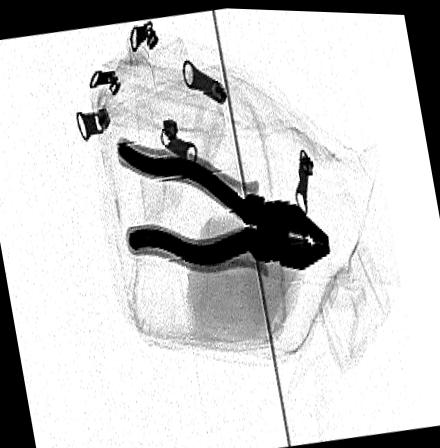Pliers: (114, 135, 334, 279)
